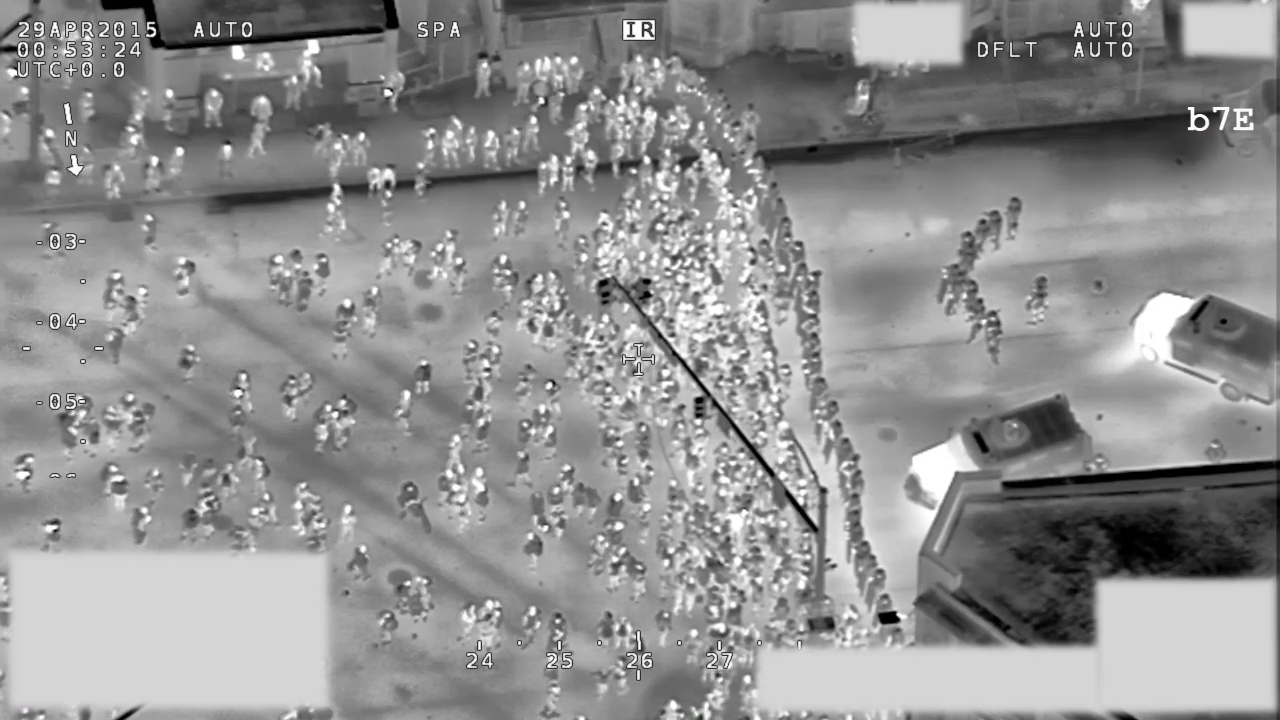vehicle: (901, 390, 1096, 517), (1125, 283, 1280, 410)
